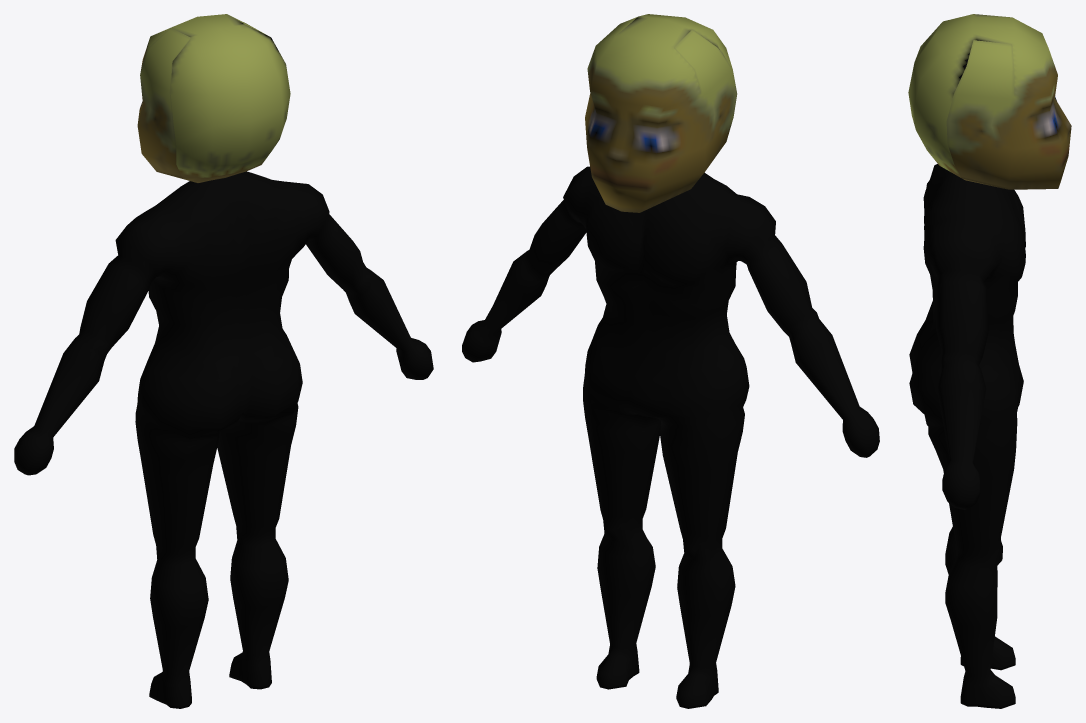
File: models1f.obj
3 renders of one model, left to right at view 1: azimuth 30°, elevation 25°; view 2: azimuth 150°, elevation 25°; view 3: azimuth 270°, elevation 25°, orthographic.
Visible parts, largest first — view 1: Man_1; view 2: Man_1; view 3: Man_1.
Part boxes in pixels (<box>): Man_1: <box>14,14,433,708</box>; Man_1: <box>462,14,879,708</box>; Man_1: <box>908,14,1071,708</box>.
Size of the model in its own units: 0.7285 by 1.12 by 0.2515.
Materials: 1 (1 with a texture image).
